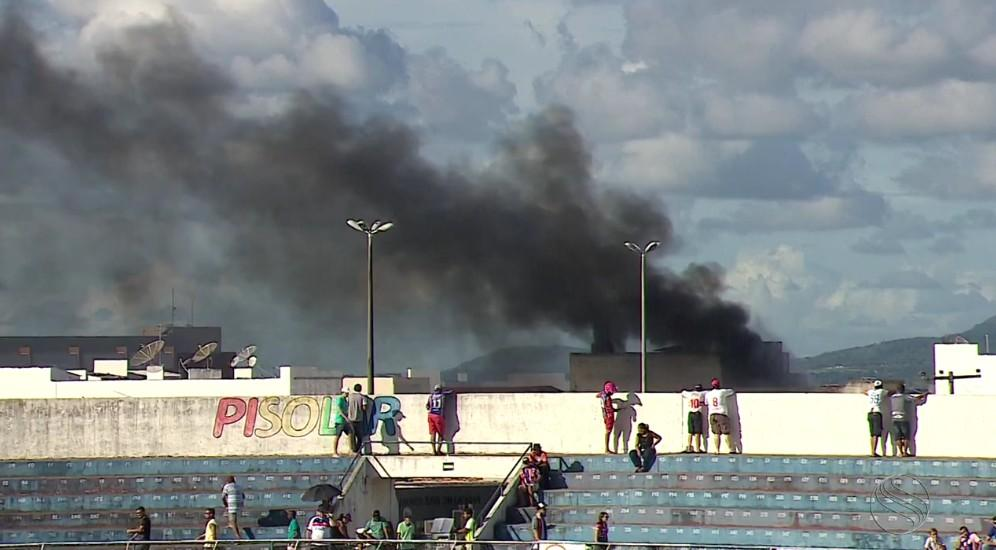smoke: (406, 183, 644, 323), (227, 124, 370, 299)
